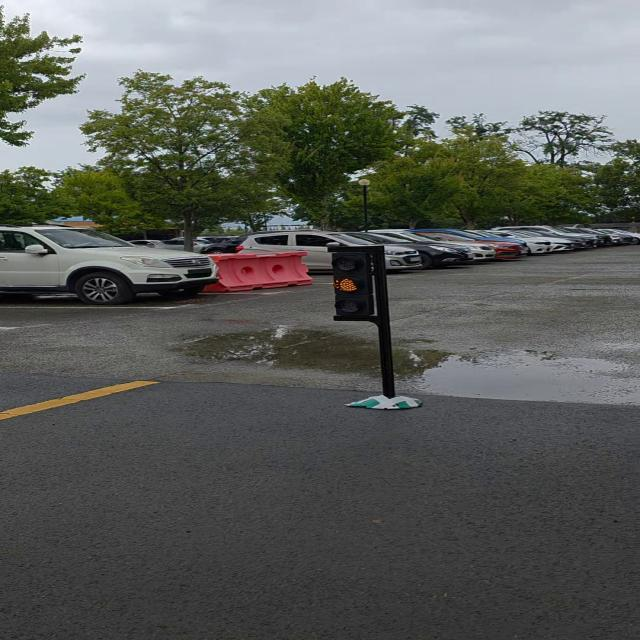yellow: (332, 246, 379, 322)
